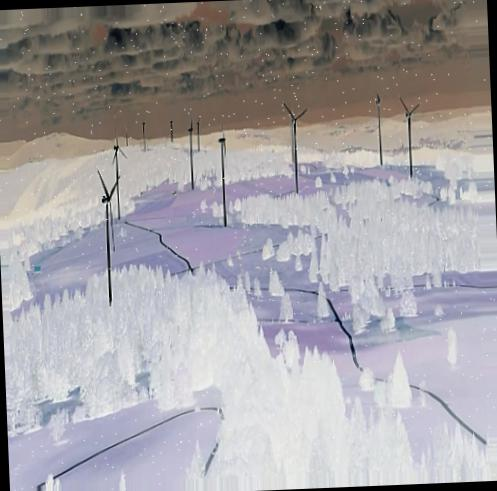wind turbine: (94, 168, 122, 309), (282, 103, 309, 192), (398, 97, 424, 180)
